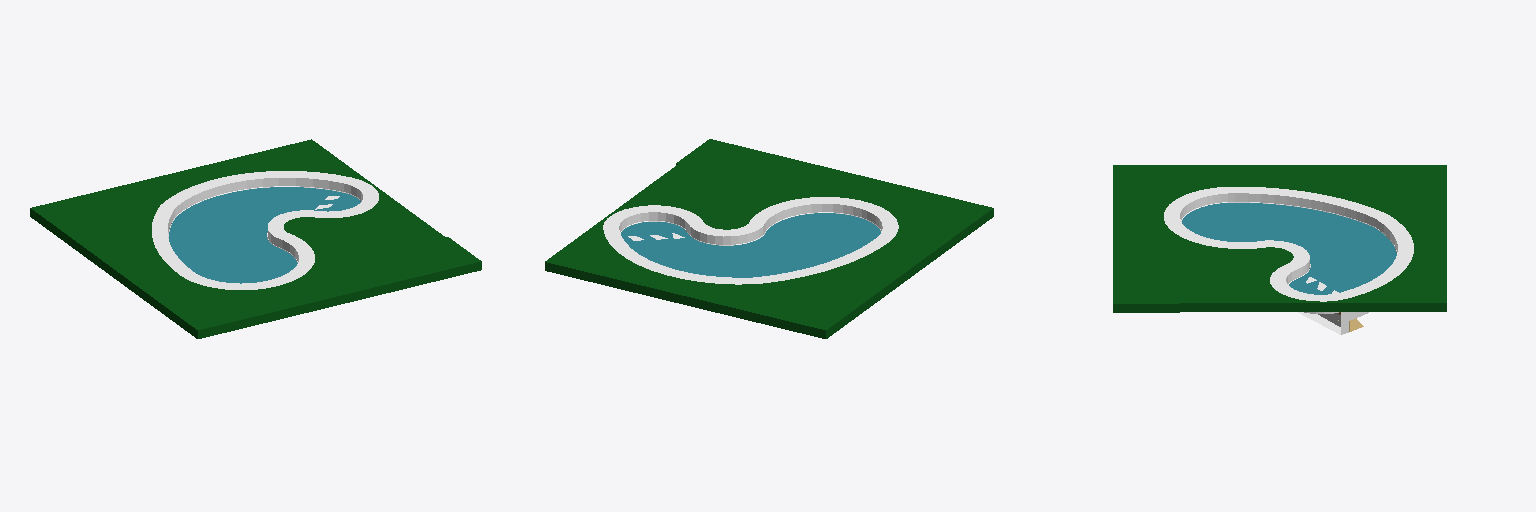
The model's file is lago.obj.
3 renders of one model, left to right at view 1: azimuth 30°, elevation 25°; view 2: azimuth 150°, elevation 25°; view 3: azimuth 270°, elevation 25°, orthographic.
Parts seen in each view (by area): view 1: Malla de Mesh1 Model; view 2: Malla de Mesh1 Model; view 3: Malla de Mesh1 Model.
Boxes of the visible parts, <box> form: Malla de Mesh1 Model: <box>30,139,481,338</box>; Malla de Mesh1 Model: <box>545,139,993,338</box>; Malla de Mesh1 Model: <box>1113,165,1446,334</box>.
Size of the model in its own units: 797 by 115 by 815.